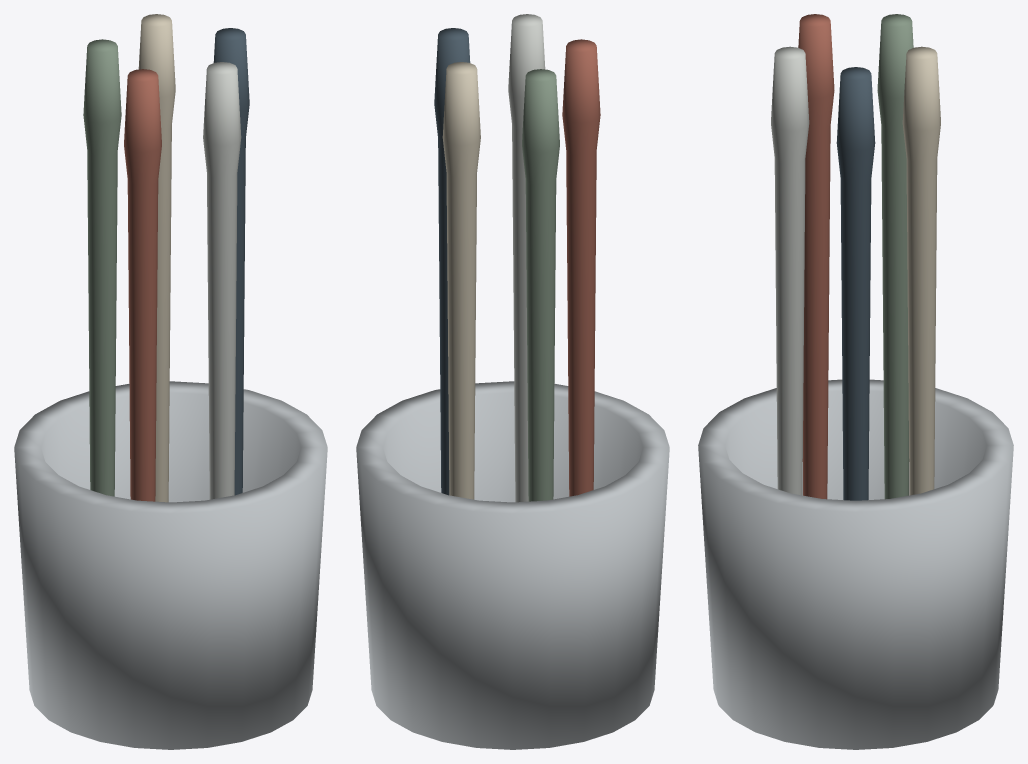
File: sku_pen_set.glb
The picture shows the model from 3 angles, left to right: view 1: azimuth 30°, elevation 25°; view 2: azimuth 150°, elevation 25°; view 3: azimuth 270°, elevation 25°; orthographic projection.
Visible parts, largest first — view 1: sku_pen_set_Brushed_stainless, sku_pen_set_Woven_2, sku_pen_set_Woven_4, sku_pen_set_Woven_3, sku_pen_set_Woven_1, sku_pen_set_Woven_0; view 2: sku_pen_set_Brushed_stainless, sku_pen_set_Woven_3, sku_pen_set_Woven_1, sku_pen_set_Woven_2, sku_pen_set_Woven_4, sku_pen_set_Woven_0; view 3: sku_pen_set_Brushed_stainless, sku_pen_set_Woven_1, sku_pen_set_Woven_4, sku_pen_set_Woven_0, sku_pen_set_Woven_2, sku_pen_set_Woven_3.
Part boxes in pixels (x1,y1,x2,y2): sku_pen_set_Brushed_stainless: (14,381,327,749); sku_pen_set_Woven_2: (83,39,121,496); sku_pen_set_Woven_4: (203,62,241,499); sku_pen_set_Woven_3: (124,69,161,501); sku_pen_set_Woven_1: (138,14,175,502); sku_pen_set_Woven_0: (213,28,249,495); sku_pen_set_Brushed_stainless: (356,381,669,749); sku_pen_set_Woven_3: (562,39,600,496); sku_pen_set_Woven_1: (442,62,480,499); sku_pen_set_Woven_2: (522,69,559,501); sku_pen_set_Woven_4: (508,14,545,502); sku_pen_set_Woven_0: (434,28,470,495); sku_pen_set_Brushed_stainless: (698,379,1013,749); sku_pen_set_Woven_1: (902,46,940,495); sku_pen_set_Woven_4: (771,46,809,495); sku_pen_set_Woven_0: (836,67,875,500); sku_pen_set_Woven_2: (877,14,913,499); sku_pen_set_Woven_3: (798,14,834,499).
Size of the model in its own units: 0.082 by 0.185 by 0.082.
